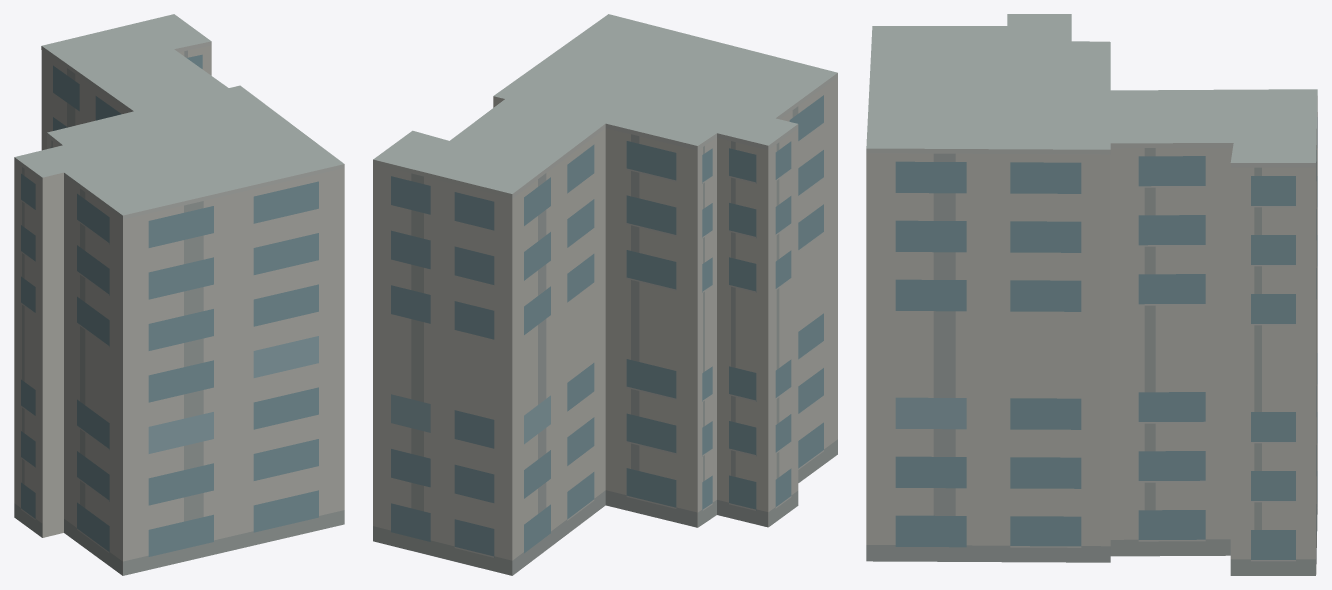
The model's file is survey-upis-32457836.glb.
3 views of the same model, side by side, from view 1: azimuth 30°, elevation 25°; view 2: azimuth 150°, elevation 25°; view 3: azimuth 270°, elevation 25° (orthographic). The views are drawn at different scales.
Visible parts, largest first — view 1: survey-upis-32457836.tmp; view 2: survey-upis-32457836.tmp; view 3: survey-upis-32457836.tmp.
Boxes of the visible parts, <box> form: survey-upis-32457836.tmp: <box>14,14,344,575</box>; survey-upis-32457836.tmp: <box>373,14,837,575</box>; survey-upis-32457836.tmp: <box>866,14,1317,575</box>.
Bounding box in the file's own units: 16.36 × 21.1 × 20.91.
